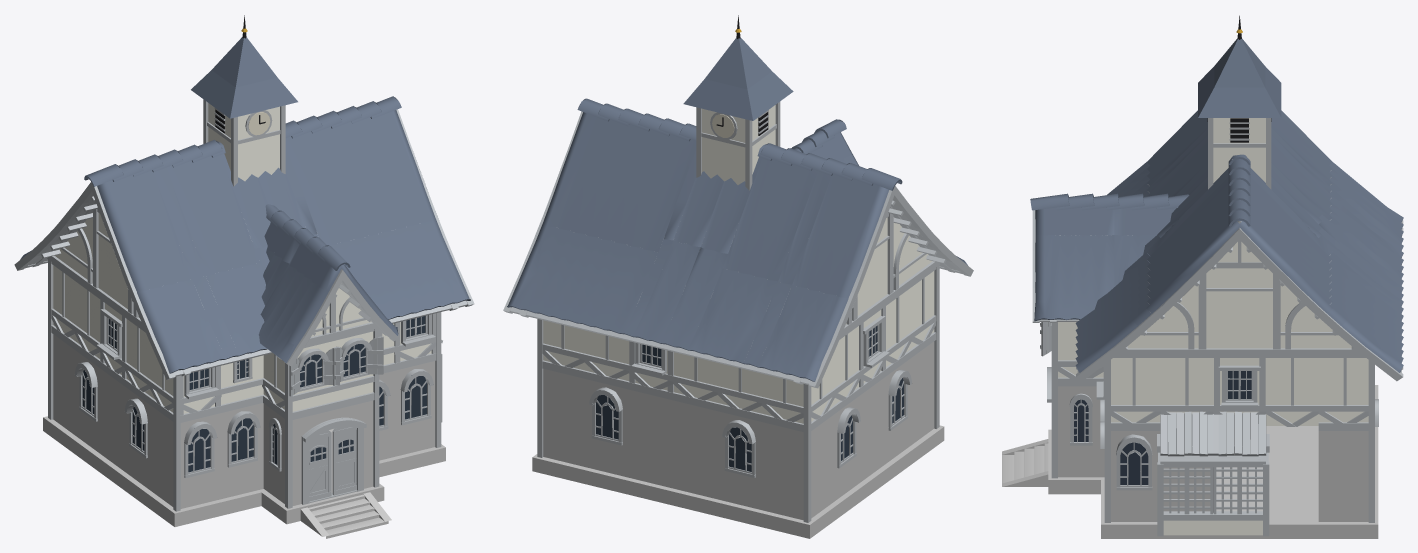
The model's file is library.gltf.
The picture shows the model from 3 angles, left to right: view 1: azimuth 30°, elevation 25°; view 2: azimuth 150°, elevation 25°; view 3: azimuth 270°, elevation 25°; orthographic projection. The views are drawn at different scales.
Parts seen in each view (by area): view 1: Roof_RoundTiles_8x10.088, Roof_RoundTiles_4x4.085, Plinth.001, Roof_Front_Brick8.089, TurretRoof.122, Wall_UnevenBrick_Door_Round.065, Wall_UnevenBrick_Window_Wide_Round.005, Stairs_Exterior_Straight.087, TurretBody.091, Wall_UnevenBrick_Window_Wide_Round.009, Wall_UnevenBrick_Window_Wide_Round.003, Wall_UnevenBrick_Straight.022 (+39 smaller); view 2: Roof_RoundTiles_8x10.088, Plinth.001, Roof_Front_Brick8.089, TurretRoof.122, Wall_UnevenBrick_Straight.015, Wall_UnevenBrick_Straight.014, Wall_UnevenBrick_Straight.011, Wall_UnevenBrick_Straight.018, Wall_UnevenBrick_Window_Wide_Round.012, Wall_UnevenBrick_Window_Wide_Round.016, TurretBody.091, Wall_UnevenBrick_Straight.022 (+24 smaller); view 3: Roof_RoundTiles_8x10.088, Roof_Front_Brick8.090, Roof_RoundTiles_4x4.085, Plinth.001, Wall_UnevenBrick_Straight.029, TurretRoof.122, Wall_Plaster_Straight+upper.059, Wall_Plaster_Straight+upper.060, Wall_Plaster_WoodGrid+upper.125, Wall_Plaster_Straight+upper.055, Wall_UnevenBrick_Window_Thin_Round.071, Wall_Plaster_WoodGrid+upper.126 (+18 smaller).
Part boxes in pixels (bbox=[...]): Roof_RoundTiles_8x10.088: bbox=[14, 96, 474, 379]; Roof_RoundTiles_4x4.085: bbox=[258, 204, 398, 366]; Plinth.001: bbox=[43, 416, 445, 526]; Roof_Front_Brick8.089: bbox=[41, 196, 144, 329]; TurretRoof.122: bbox=[191, 37, 297, 118]; Wall_UnevenBrick_Door_Round.065: bbox=[292, 392, 374, 505]; Wall_UnevenBrick_Window_Wide_Round.005: bbox=[220, 394, 264, 499]; Stairs_Exterior_Straight.087: bbox=[300, 492, 391, 538]; TurretBody.091: bbox=[208, 103, 279, 181]; Wall_UnevenBrick_Window_Wide_Round.009: bbox=[394, 353, 436, 456]; Wall_UnevenBrick_Window_Wide_Round.003: bbox=[180, 405, 221, 508]; Wall_UnevenBrick_Straight.022: bbox=[100, 361, 126, 472]; Roof_RoundTiles_8x10.088: bbox=[503, 98, 973, 388]; Plinth.001: bbox=[532, 425, 944, 538]; Roof_Front_Brick8.089: bbox=[840, 200, 946, 336]; TurretRoof.122: bbox=[683, 37, 793, 120]; Wall_UnevenBrick_Straight.015: bbox=[673, 392, 718, 499]; Wall_UnevenBrick_Straight.014: bbox=[628, 382, 674, 488]; Wall_UnevenBrick_Straight.011: bbox=[542, 360, 585, 466]; Wall_UnevenBrick_Straight.018: bbox=[761, 414, 803, 520]; Wall_UnevenBrick_Window_Wide_Round.012: bbox=[584, 370, 629, 477]; Wall_UnevenBrick_Window_Wide_Round.016: bbox=[717, 403, 762, 510]; TurretBody.091: bbox=[702, 105, 775, 184]; Wall_UnevenBrick_Straight.022: bbox=[858, 369, 886, 483]; Roof_RoundTiles_8x10.088: bbox=[1075, 110, 1403, 381]; Roof_Front_Brick8.090: bbox=[1116, 240, 1363, 355]; Roof_RoundTiles_4x4.085: bbox=[1030, 193, 1189, 322]; Plinth.001: bbox=[1101, 385, 1378, 538]; Wall_UnevenBrick_Straight.029: bbox=[1318, 422, 1368, 521]; TurretRoof.122: bbox=[1198, 38, 1281, 117]; Wall_Plaster_Straight+upper.059: bbox=[1266, 356, 1318, 426]; Wall_Plaster_Straight+upper.060: bbox=[1318, 356, 1368, 423]; Wall_Plaster_WoodGrid+upper.125: bbox=[1160, 457, 1213, 535]; Wall_Plaster_Straight+upper.055: bbox=[1111, 356, 1160, 423]; Wall_UnevenBrick_Window_Thin_Round.071: bbox=[1058, 377, 1104, 477]; Wall_Plaster_WoodGrid+upper.126: bbox=[1213, 457, 1265, 535].
Bounding box in the file's own units: 14.65 × 19.14 × 15.22.
